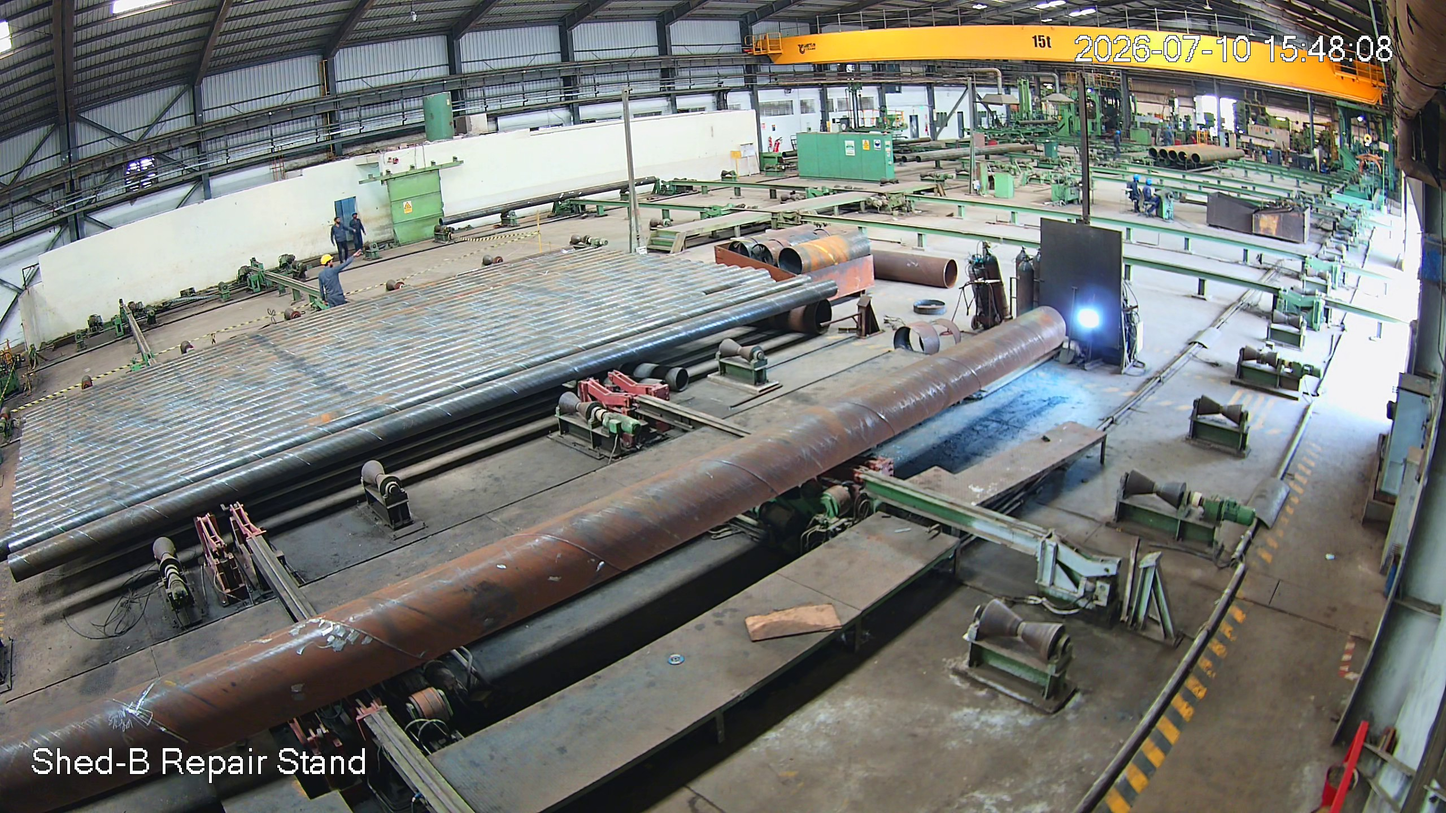Helmet: (319, 247, 341, 284)
Person: (312, 253, 357, 320)
